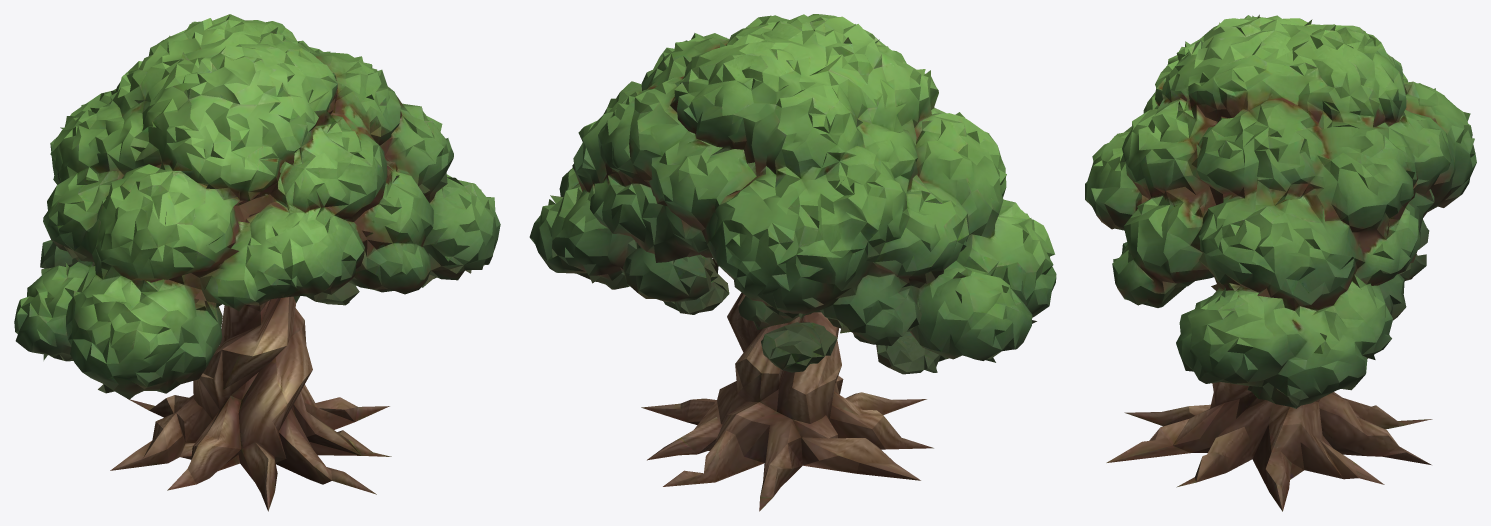
The model's file is big-tree.glb.
3 views of the same model, side by side, from view 1: azimuth 30°, elevation 25°; view 2: azimuth 150°, elevation 25°; view 3: azimuth 270°, elevation 25° (orthographic). The views are drawn at different scales.
Bounding box in the file's own units: 1.89 × 1.61 × 1.39.
1 material, 1 textured.
